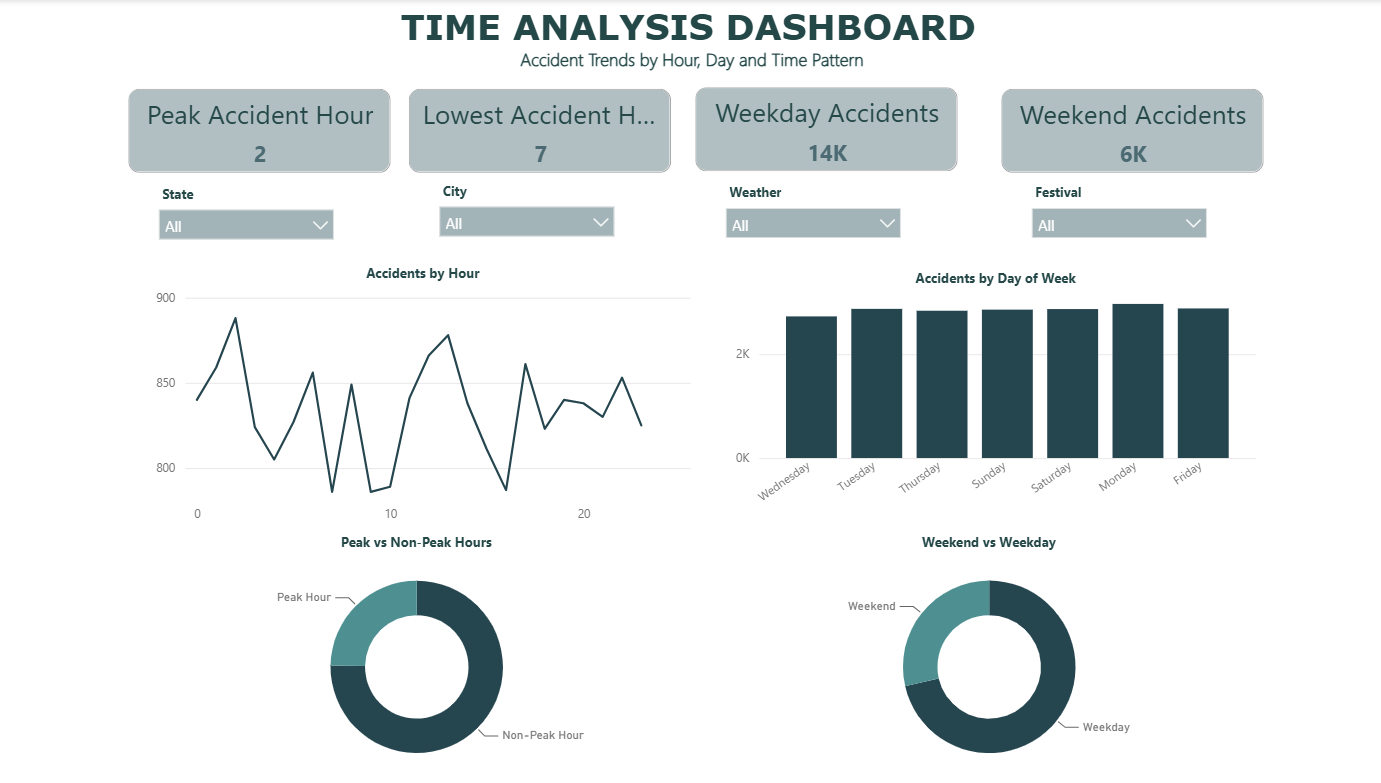

This screenshot's page, from the dashboard's own definition file:
{"tool":"powerbi","page":{"name":"TIME ANALYSIS DASHBOARD ","canvas":[1280,720],"ordinal":1},"visuals":[{"type":"textbox","box":[0,0,1279.5,80.3],"z":0},{"type":"slicer","fields":{"Values":["Accidents.state"]},"box":[139.6,164.8,180,58.3],"z":1000},{"type":"slicer","fields":{"Values":["Accidents.city"]},"box":[396.9,162,180,60],"z":2000},{"type":"slicer","fields":{"Values":["Accidents.weather"]},"box":[658.5,163.7,180,58.3],"z":3000},{"type":"slicer","fields":{"Values":["Accidents.festival"]},"box":[938.5,163.7,180,60],"z":4000},{"type":"lineChart","title":"Accidents by Hour","fields":{"Category":["Accidents.hour"],"Y":["Accidents.Total Accidents"]},"box":[141.7,243.3,500,245],"z":5000},{"type":"clusteredColumnChart","title":"Accidents by Day of Week","fields":{"Category":["Accidents.day_of_week"],"Y":["Accidents.Total Accidents"]},"box":[672.3,246.8,486.1,225.6],"z":6000},{"type":"donutChart","title":"Peak vs Non-Peak Hours","fields":{"Category":["Accidents.Is_Peak_hour 2"],"Y":["Accidents.Total Accidents"]},"box":[141.7,488.3,488.3,228.3],"z":7000},{"type":"donutChart","title":"Weekend vs Weekday","fields":{"Category":["Accidents.Is_Weekend 2"],"Y":["Accidents.Total Accidents"]},"box":[660,488.3,498.3,228.3],"z":8000},{"type":"cardVisual","fields":{"Data":["Accidents.Peak Accident Hour"]},"box":[117.2,76.7,250,87],"z":9000},{"type":"cardVisual","fields":{"Data":["Accidents.Lowest Accident Hour"]},"box":[373.9,76.7,250,87],"z":10000},{"type":"cardVisual","fields":{"Data":["Accidents.Weekday Accidents"]},"box":[635.6,75,250,87],"z":11000},{"type":"cardVisual","fields":{"Data":["Accidents.Weekend Accidents"]},"box":[915.6,76.7,250,87],"z":12000}]}

Visuals, with their boxes in screenshot pixels (x1, y1, x2, y2), scaled from the page's 1280x720 canvas onto the 1381x783 screenshot:
textbox: Rect(0, 0, 1380, 87)
slicer - Accidents.state: Rect(151, 179, 345, 243)
slicer - Accidents.city: Rect(428, 176, 622, 241)
slicer - Accidents.weather: Rect(710, 178, 905, 241)
slicer - Accidents.festival: Rect(1013, 178, 1207, 243)
"Accidents by Hour" lineChart: Rect(153, 265, 692, 531)
"Accidents by Day of Week" clusteredColumnChart: Rect(725, 268, 1250, 514)
"Peak vs Non-Peak Hours" donutChart: Rect(153, 531, 680, 779)
"Weekend vs Weekday" donutChart: Rect(712, 531, 1250, 779)
cardVisual - Accidents.Peak Accident Hour: Rect(126, 83, 396, 178)
cardVisual - Accidents.Lowest Accident Hour: Rect(403, 83, 673, 178)
cardVisual - Accidents.Weekday Accidents: Rect(686, 82, 955, 176)
cardVisual - Accidents.Weekend Accidents: Rect(988, 83, 1258, 178)
